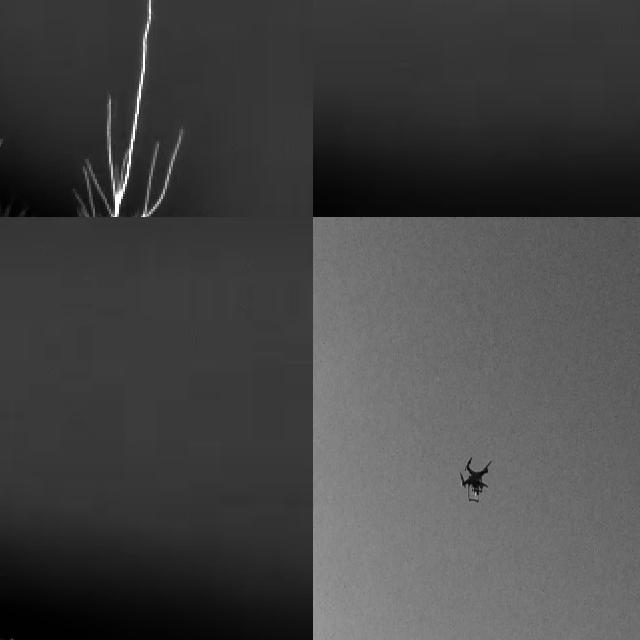drone: (455, 451, 492, 503)
